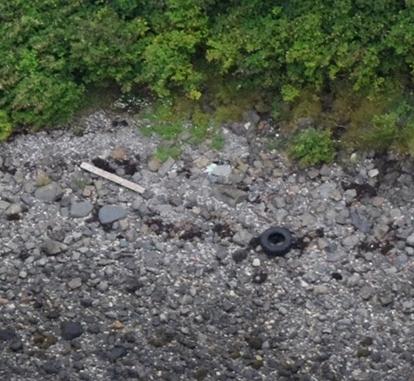straight_bar: (74, 153, 152, 197)
white_in_green: (248, 212, 306, 270)
